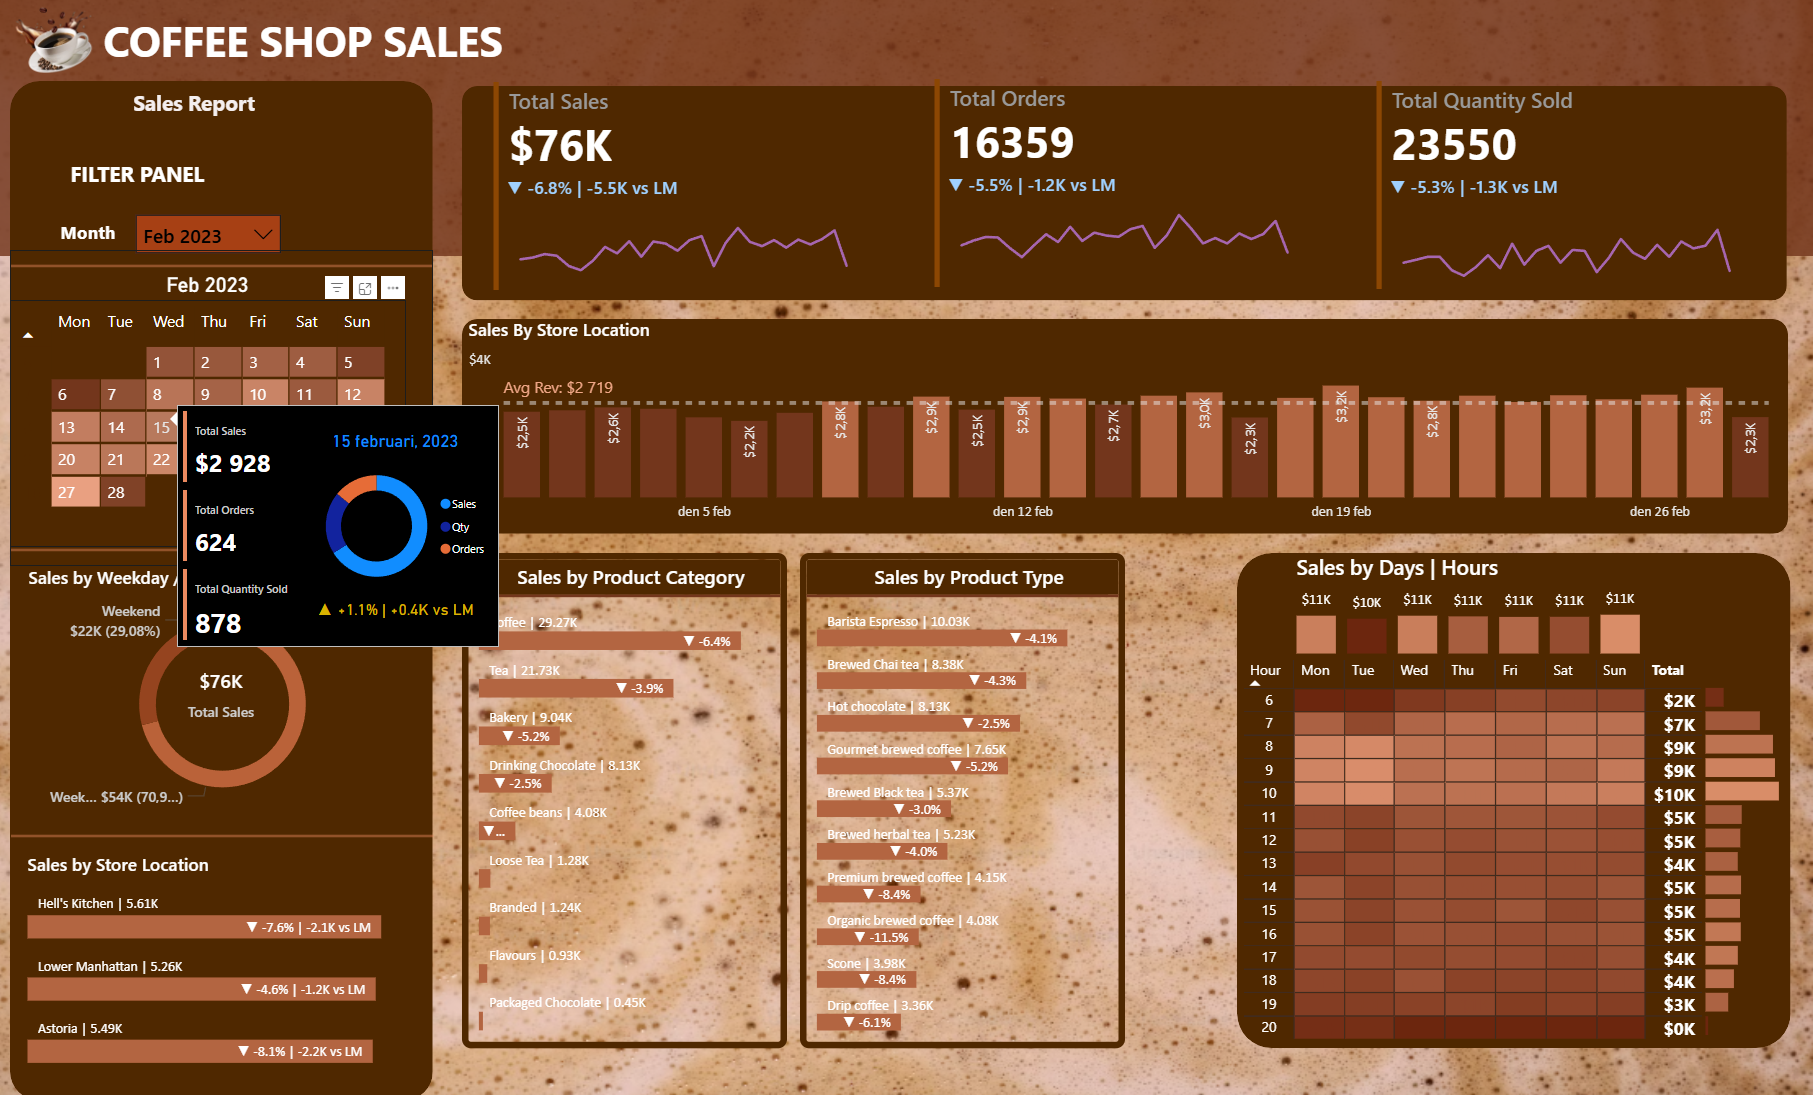

Layout of this report page (visuals, bound fields, positions):
{"tool":"powerbi","page":{"name":"Page 1","canvas":[1400,850],"ordinal":0},"visuals":[{"type":"shape","box":[0,0,1400,200],"z":0},{"type":"shape","box":[9.1,413.7,325.5,24.5],"z":0,"group":"g5"},{"type":"shape","box":[9.2,65.4,325.4,784.6],"z":1000},{"type":"shape","box":[9.1,195.5,325.5,24.5],"z":1000,"group":"g5"},{"type":"shape","box":[356.7,69.2,1019.2,165],"z":2000},{"type":"group","id":"g1","title":"Group 2","box":[9.2,202,310.8,222.3],"z":2000,"group":"g5"},{"type":"textbox","box":[76.3,6.9,354.2,58.8],"z":3000},{"type":"image","box":[0,0,85.4,73.1],"z":4000},{"type":"slicer","fields":{"Values":["Date Table.Month Year"]},"box":[100.8,163.3,121.7,38.3],"z":5000},{"type":"group","id":"g2","title":"Group 1","box":[366,66,302,165],"z":6000},{"type":"group","id":"g3","title":"Group 1","box":[705.5,64,302,165],"z":7000},{"type":"cardVisual","fields":{"Data":["Transactions.TotalOrders"]},"box":[705.5,64,300,165],"z":7500,"group":"g3"},{"type":"cardVisual","fields":{"Data":["Transactions.Total Quantity Sold"]},"box":[1045,65,300,165],"z":7500,"group":"g4"},{"type":"cardVisual","fields":{"Data":["Transactions.Total Sales"]},"box":[366,66,300,165],"z":7500,"group":"g2"},{"type":"group","id":"g4","title":"Group 1","box":[1045,65,302,165],"z":8000},{"type":"lineChart","fields":{"Category":["Date Table.Date.Variation.Date Hierarchy.Year","Date Table.Date.Variation.Date Hierarchy.Quarter","Date Table.Date.Variation.Date Hierarchy.Month","Date Table.Date.Variation.Date Hierarchy.Day"],"Y":["Transactions.Total Orders"]},"box":[726.6,136,280.8,85],"z":8001,"group":"g3"},{"type":"lineChart","fields":{"Category":["Date Table.Date.Variation.Date Hierarchy.Year","Date Table.Date.Variation.Date Hierarchy.Quarter","Date Table.Date.Variation.Date Hierarchy.Month","Date Table.Date.Variation.Date Hierarchy.Day"],"Y":["Transactions.Total Quantity Sold"]},"box":[1066.1,137,280.8,85],"z":8001,"group":"g4"},{"type":"lineChart","fields":{"Category":["Date Table.Date.Variation.Date Hierarchy.Year","Date Table.Date.Variation.Date Hierarchy.Quarter","Date Table.Date.Variation.Date Hierarchy.Month","Date Table.Date.Variation.Date Hierarchy.Day"],"Y":["Transactions.Total Sales"]},"box":[387.1,138,280.8,85],"z":8001,"group":"g2"},{"type":"group","id":"g5","title":"Group 3","box":[9.1,195.5,325.5,242.7],"z":9000},{"type":"pivotTable","fields":{"Rows":["Date Table.Week Number"],"Columns":["Date Table.Day Name"],"Values":["Min(Date Table.Day Number)"]},"box":[9.2,234.3,304.6,190],"z":10000,"group":"g1"},{"type":"group","id":"g6","title":"Group 4","box":[10,438.5,325.4,220],"z":10000},{"type":"card","fields":{"Values":["Min(Date Table.Month Year)"]},"box":[116.9,202,88.5,42.3],"z":11000,"group":"g1"},{"type":"clusteredBarChart","title":"Sales by Store Location","fields":{"Category":["Transactions.store_location"],"Y":["Transactions.Placeholder","Transactions.Total Sales"]},"box":[18,659,308,169],"z":11000},{"type":"textbox","box":[700,297,507,86],"z":12000},{"type":"card","fields":{"Values":["Transactions.Foot Note"]},"box":[150.7,389.7,169.2,34.6],"z":12000,"group":"g1"},{"type":"shape","box":[10,633.9,325.4,24.6],"z":12001,"group":"g6"},{"type":"donutChart","title":"Sales by Weekday / Weekend","fields":{"Category":["Date Table.Weekday / Weekend"],"Y":["Transactions.Total Sales"]},"box":[18.5,438.5,308.5,195.4],"z":12500,"group":"g6"},{"type":"shape","box":[356.9,248.5,1020,165.4],"z":13000},{"type":"columnChart","title":"Sales By Store Location","fields":{"Category":["Transactions.transaction_date"],"Y":["Transactions.Total Sales"]},"box":[357,248,1020,165],"z":14000},{"type":"clusteredBarChart","title":"Sales by Product Category","fields":{"Y":["Transactions.Placeholder","Transactions.Total Sales"],"Category":["Transactions.product_category"]},"box":[356.7,428.3,250,380.8],"z":15000},{"type":"card","fields":{"Values":["Transactions.Total Sales"]},"box":[108.5,500.8,126.2,70.8],"z":15500,"group":"g6"},{"type":"clusteredBarChart","title":"Sales by Product Type","fields":{"Y":["Transactions.Placeholder","Transactions.Total Sales"],"Category":["Transactions.product_type"]},"box":[616.7,428.3,250,380.8],"z":16000},{"type":"shape","box":[953.3,428.3,425.8,380.8],"z":17000},{"type":"pivotTable","fields":{"Rows":["Transactions.Hour"],"Columns":["Date Table.Day Name"],"Values":["Transactions.Total Sales"]},"box":[953.3,505,370,308.3],"z":18000},{"type":"clusteredBarChart","fields":{"Category":["Transactions.Hour"],"Y":["Transactions.Total Sales"]},"box":[1308.3,519.2,68.3,285],"z":19000},{"type":"columnChart","title":"Sales by Days | Hours","fields":{"Y":["Transactions.Total Sales"],"Category":["Date Table.Day Name"]},"box":[994.2,428.3,275,83.3],"z":20000},{"type":"textbox","box":[43.1,167.7,65.4,27.7],"z":21000},{"type":"textbox","box":[50.8,120.8,130.8,35],"z":22000},{"type":"textbox","box":[85,65.8,130.8,35],"z":23000}]}

Visuals, with their boxes in screenshot pixels (x1, y1, x2, y2), scaled from the page's 1400x850 canvas onto the 1813x1095 screenshot:
shape: region(0, 0, 1812, 258)
shape: region(12, 533, 433, 565)
shape: region(12, 84, 433, 1094)
shape: region(12, 252, 433, 283)
shape: region(462, 89, 1782, 302)
"Group 2" group: region(12, 260, 414, 547)
textbox: region(99, 9, 557, 85)
image: region(0, 0, 111, 94)
slicer - Date Table.Month Year: region(131, 210, 288, 260)
"Group 1" group: region(474, 85, 865, 298)
"Group 1" group: region(914, 82, 1305, 295)
cardVisual - Transactions.TotalOrders: region(914, 82, 1302, 295)
cardVisual - Transactions.Total Quantity Sold: region(1353, 84, 1742, 296)
cardVisual - Transactions.Total Sales: region(474, 85, 862, 298)
"Group 1" group: region(1353, 84, 1744, 296)
lineChart - Date Table.Date.Variation.Date Hierarchy.Year x Date Table.Date.Variation.Date Hierarchy.Quarter: region(941, 175, 1305, 285)
lineChart - Date Table.Date.Variation.Date Hierarchy.Year x Date Table.Date.Variation.Date Hierarchy.Quarter: region(1381, 176, 1744, 286)
lineChart - Date Table.Date.Variation.Date Hierarchy.Year x Date Table.Date.Variation.Date Hierarchy.Quarter: region(501, 178, 865, 287)
"Group 3" group: region(12, 252, 433, 565)
pivotTable - Date Table.Week Number x Date Table.Day Name: region(12, 302, 406, 547)
"Group 4" group: region(13, 565, 434, 848)
card - Min(Date Table.Month Year): region(151, 260, 266, 315)
"Sales by Store Location" clusteredBarChart: region(23, 849, 422, 1067)
textbox: region(906, 383, 1563, 493)
card - Transactions.Foot Note: region(195, 502, 414, 547)
shape: region(13, 817, 434, 848)
"Sales by Weekday / Weekend" donutChart: region(24, 565, 423, 817)
shape: region(462, 320, 1783, 533)
"Sales By Store Location" columnChart: region(462, 319, 1783, 532)
"Sales by Product Category" clusteredBarChart: region(462, 552, 786, 1042)
card - Transactions.Total Sales: region(141, 645, 304, 736)
"Sales by Product Type" clusteredBarChart: region(799, 552, 1122, 1042)
shape: region(1235, 552, 1786, 1042)
pivotTable - Transactions.Hour x Date Table.Day Name: region(1235, 651, 1714, 1048)
clusteredBarChart - Transactions.Hour x Transactions.Total Sales: region(1694, 669, 1783, 1036)
"Sales by Days | Hours" columnChart: region(1287, 552, 1644, 659)
textbox: region(56, 216, 141, 252)
textbox: region(66, 156, 235, 201)
textbox: region(110, 85, 279, 130)
